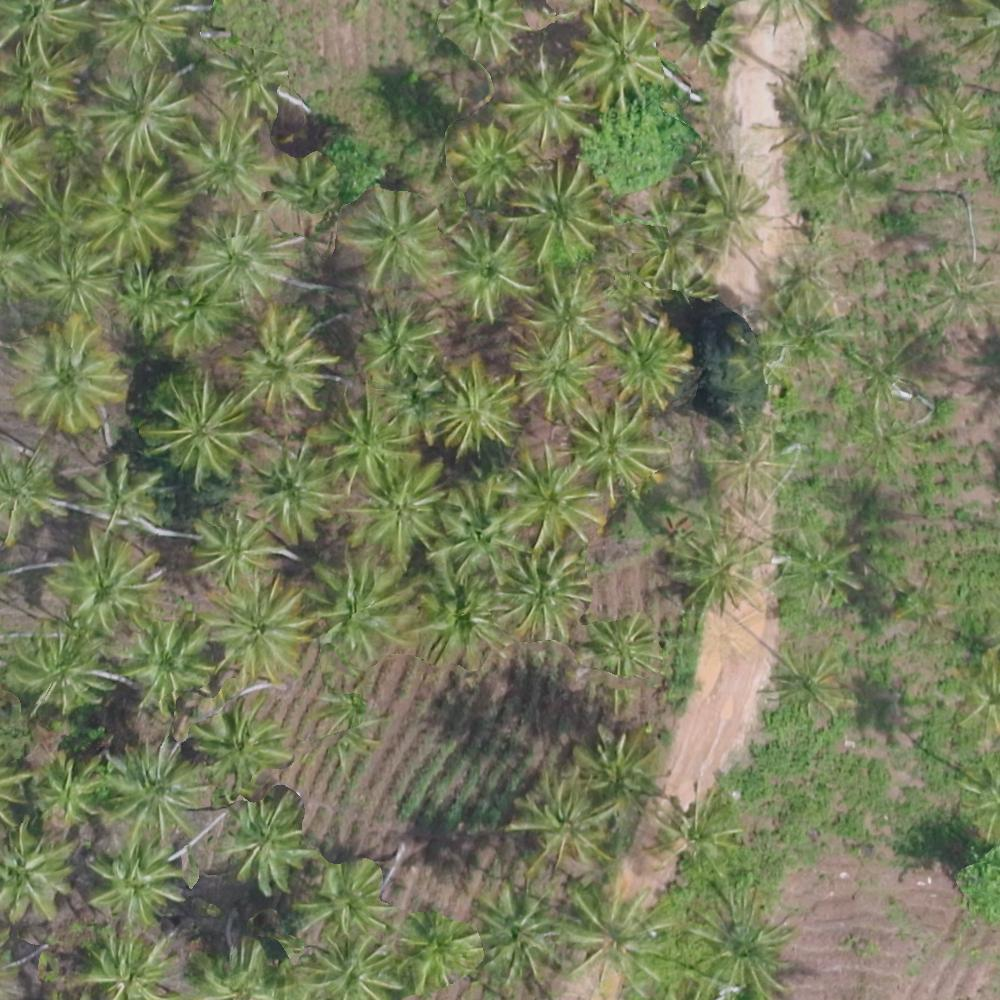Palm: (13, 321, 118, 435), (148, 372, 252, 479), (308, 551, 411, 652), (208, 584, 313, 682), (512, 779, 615, 877), (231, 309, 331, 409), (88, 71, 193, 164), (345, 189, 443, 288), (501, 452, 601, 549), (513, 164, 614, 260), (49, 534, 150, 629), (559, 886, 660, 981), (414, 560, 505, 663), (312, 383, 413, 474), (516, 264, 625, 348), (121, 616, 216, 712), (437, 221, 535, 313), (564, 731, 663, 822), (12, 622, 105, 716), (105, 741, 199, 834), (426, 365, 519, 459), (175, 113, 270, 205), (85, 166, 179, 257), (500, 322, 596, 411), (567, 9, 662, 98), (188, 697, 284, 785), (190, 212, 288, 298), (503, 55, 595, 146), (92, 835, 185, 925), (567, 405, 662, 493), (250, 442, 334, 539), (228, 800, 318, 889), (470, 888, 558, 978), (504, 551, 590, 640), (610, 314, 693, 406), (1, 823, 78, 922), (435, 480, 518, 569), (653, 791, 737, 875), (303, 862, 394, 938), (358, 458, 442, 540), (300, 931, 399, 1000), (395, 911, 476, 993), (1, 44, 85, 122), (351, 304, 443, 375), (187, 509, 274, 584), (38, 239, 115, 323), (447, 124, 525, 206), (91, 1, 187, 65), (78, 926, 167, 995), (79, 452, 158, 529), (28, 750, 107, 823), (591, 609, 666, 681), (110, 260, 181, 333), (215, 44, 285, 108)
